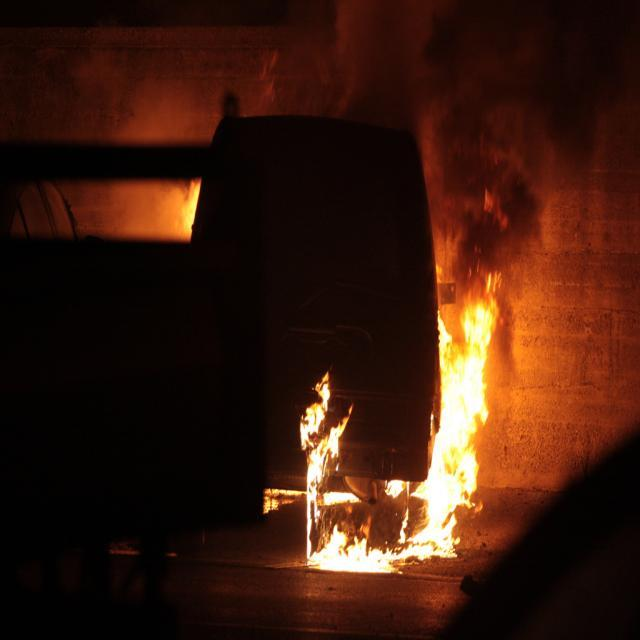Fire: (444, 317, 475, 547), (324, 536, 394, 574)
